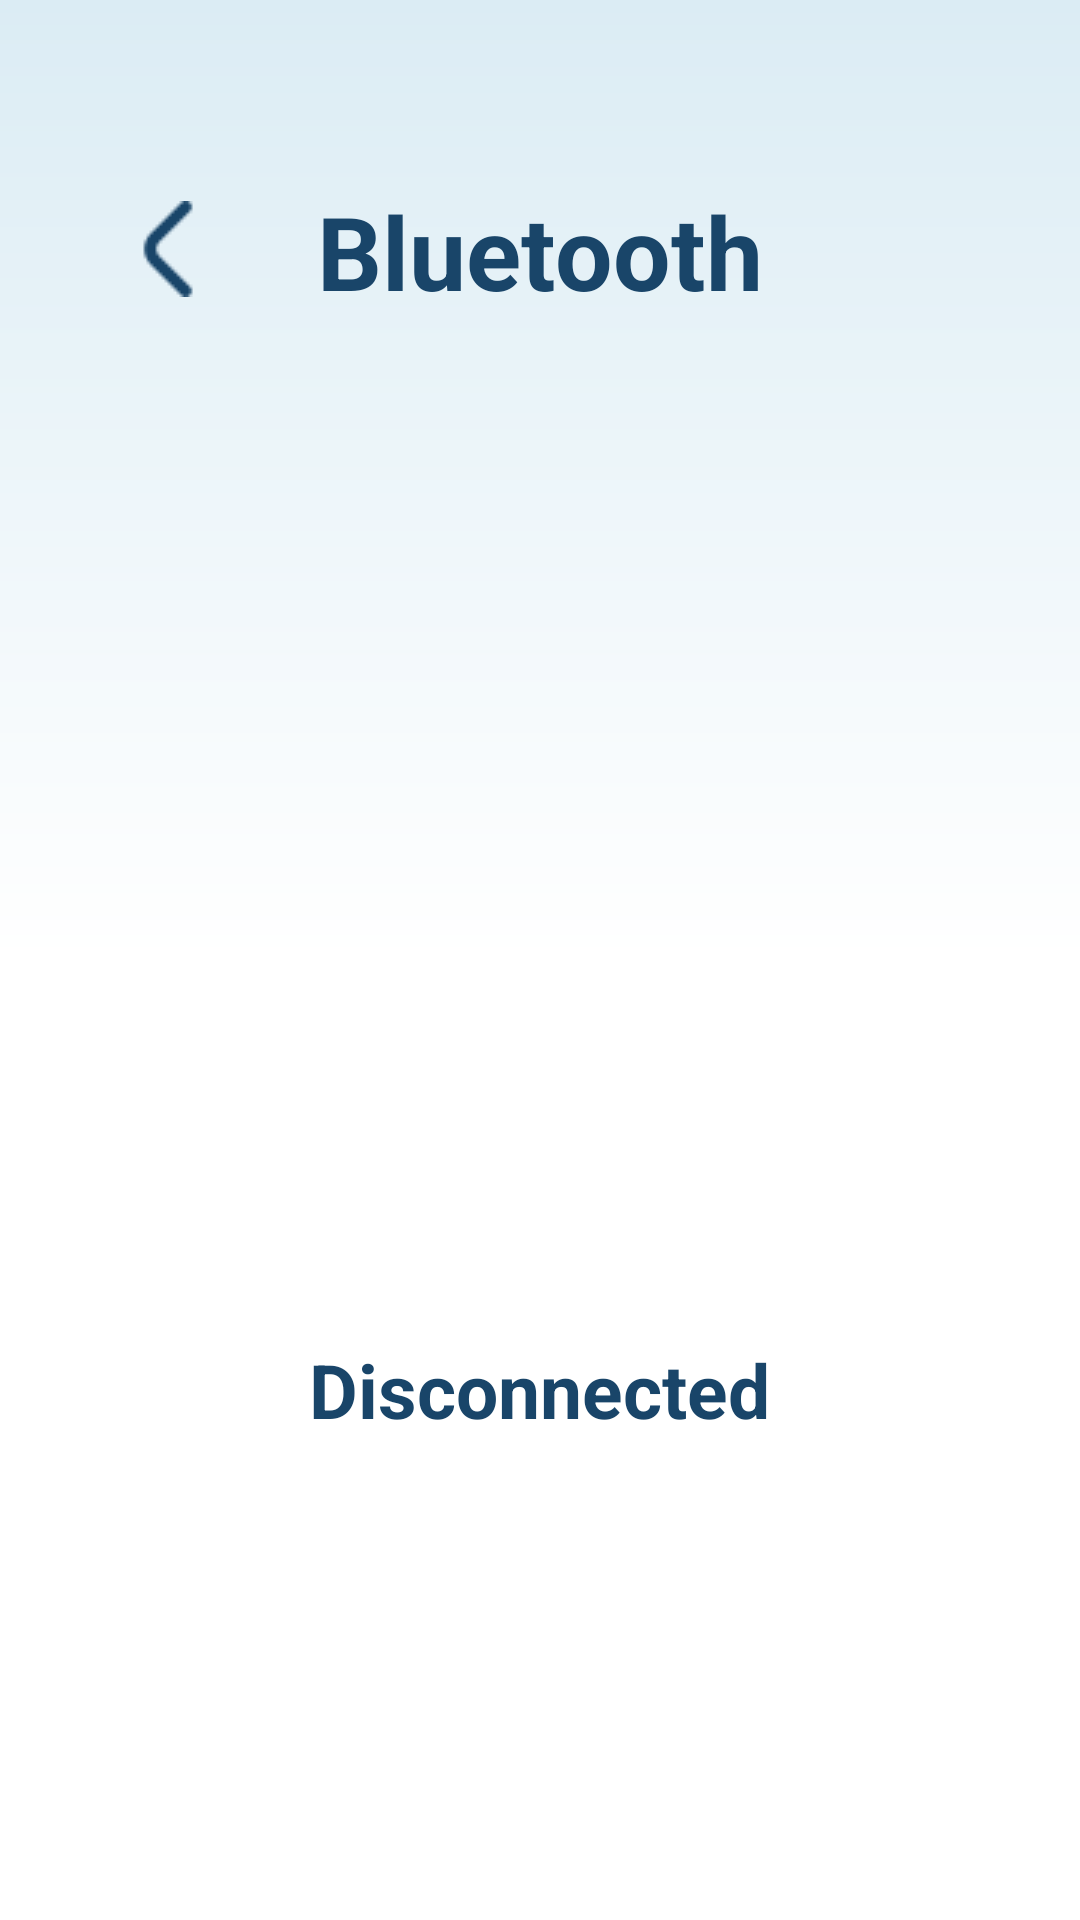

Where to tap for icons on this 1080x1920 app screen, as point (x, y):
back: point (168, 249)
